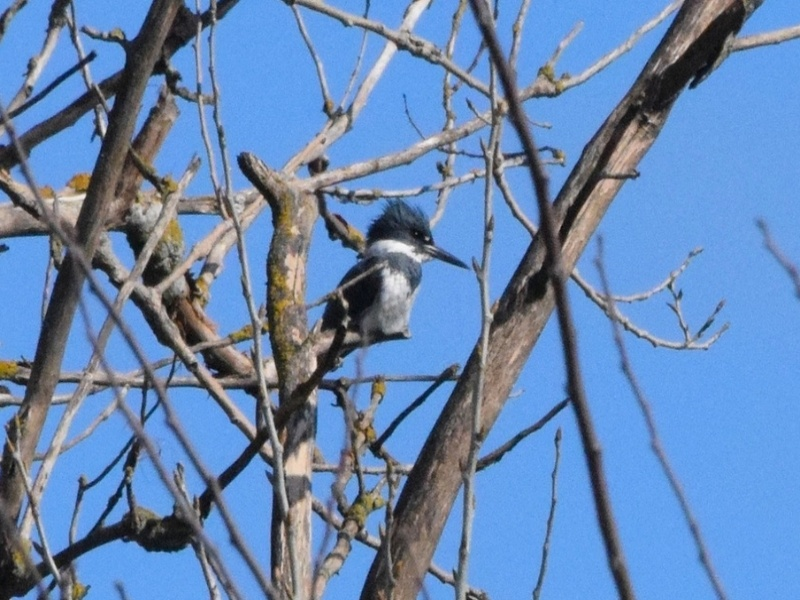kingfisher: (320, 196, 475, 341)
